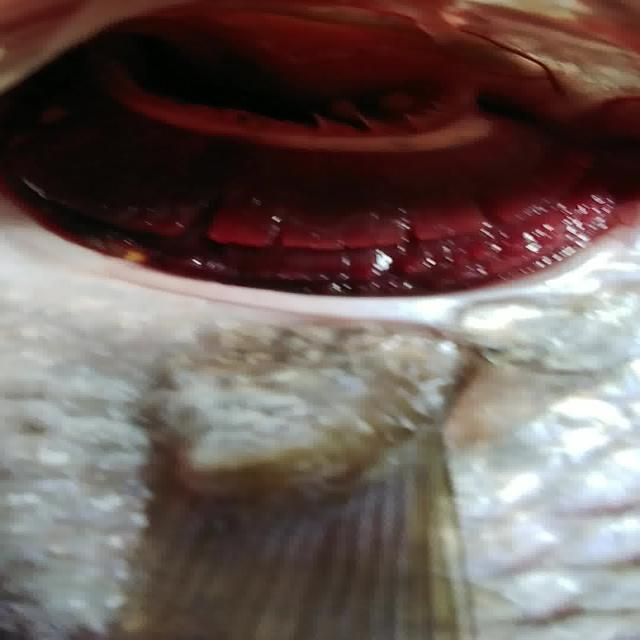Fresh: (13, 8, 640, 311)
